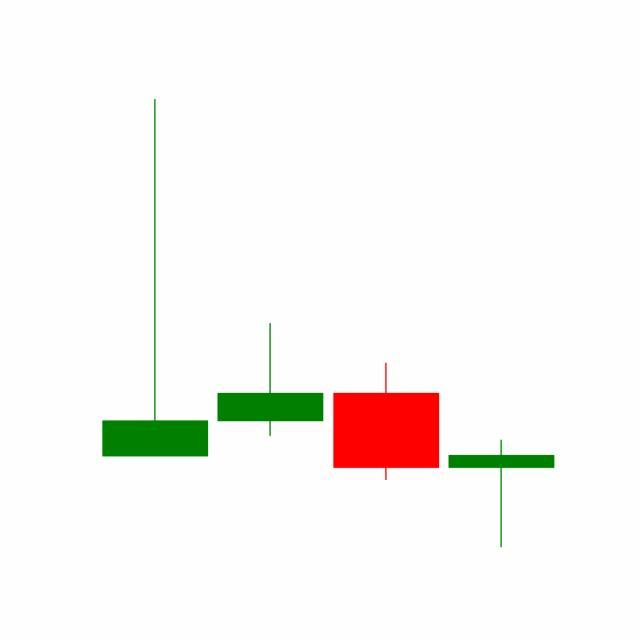Spinning Top: (444, 439, 560, 549)
